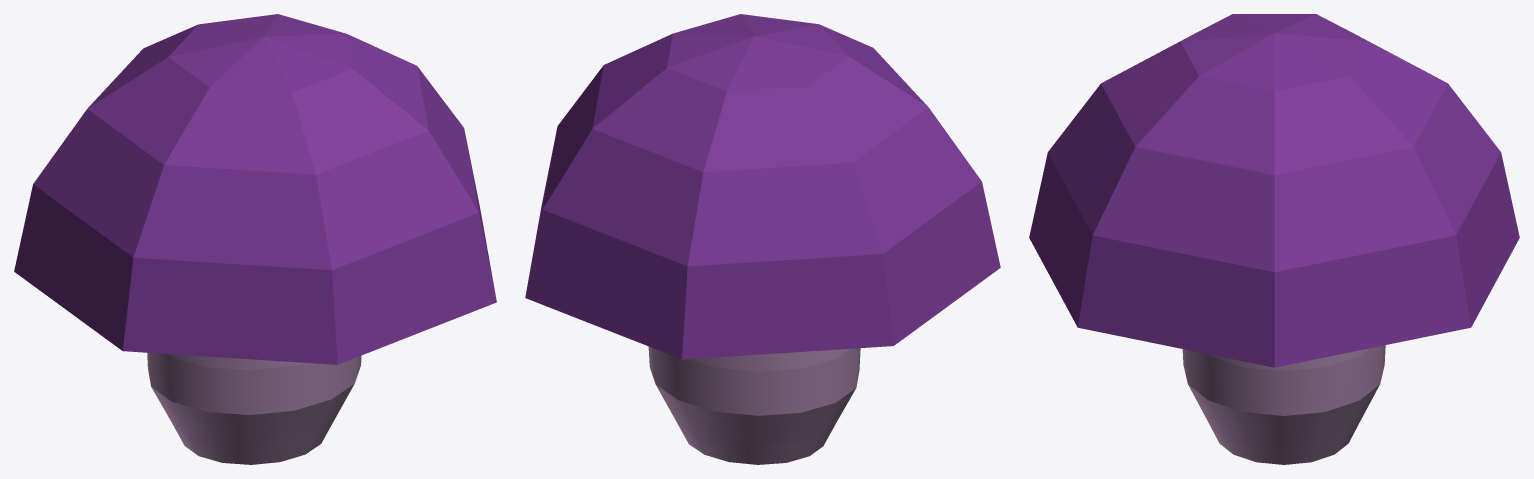
The model's file is purplemushroom2.fbx.
3 renders of one model, left to right at view 1: azimuth 30°, elevation 25°; view 2: azimuth 150°, elevation 25°; view 3: azimuth 270°, elevation 25°, orthographic. The views are drawn at different scales.
Visible parts, largest first — view 1: purplemushroom2; view 2: purplemushroom2; view 3: purplemushroom2.
Boxes of the visible parts, box(x1,y1,x2,y2) form: purplemushroom2: box(14, 14, 496, 464); purplemushroom2: box(525, 14, 1000, 464); purplemushroom2: box(1029, 14, 1519, 464).
Bounding box in the file's own units: 0.2307 × 0.2145 × 0.2366.
Materials: 1 (1 with a texture image).
